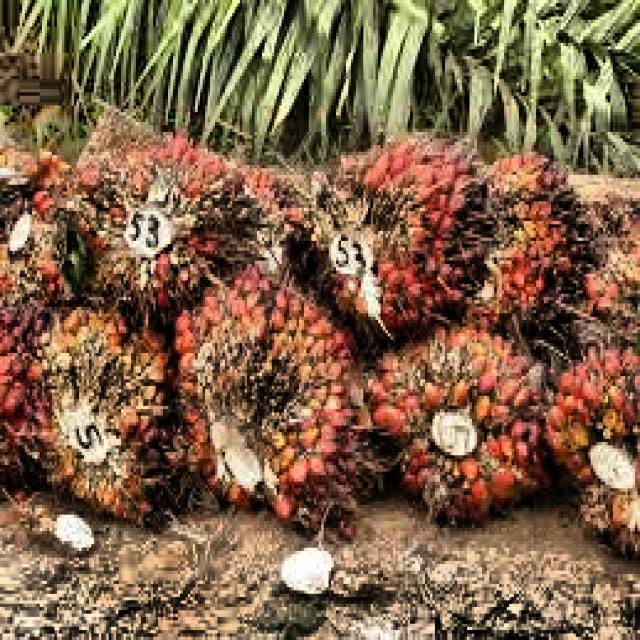FFB: (182, 293, 363, 510), (365, 326, 551, 534), (20, 294, 188, 513), (311, 140, 492, 322), (100, 139, 250, 305), (468, 151, 589, 323), (552, 342, 640, 548)
